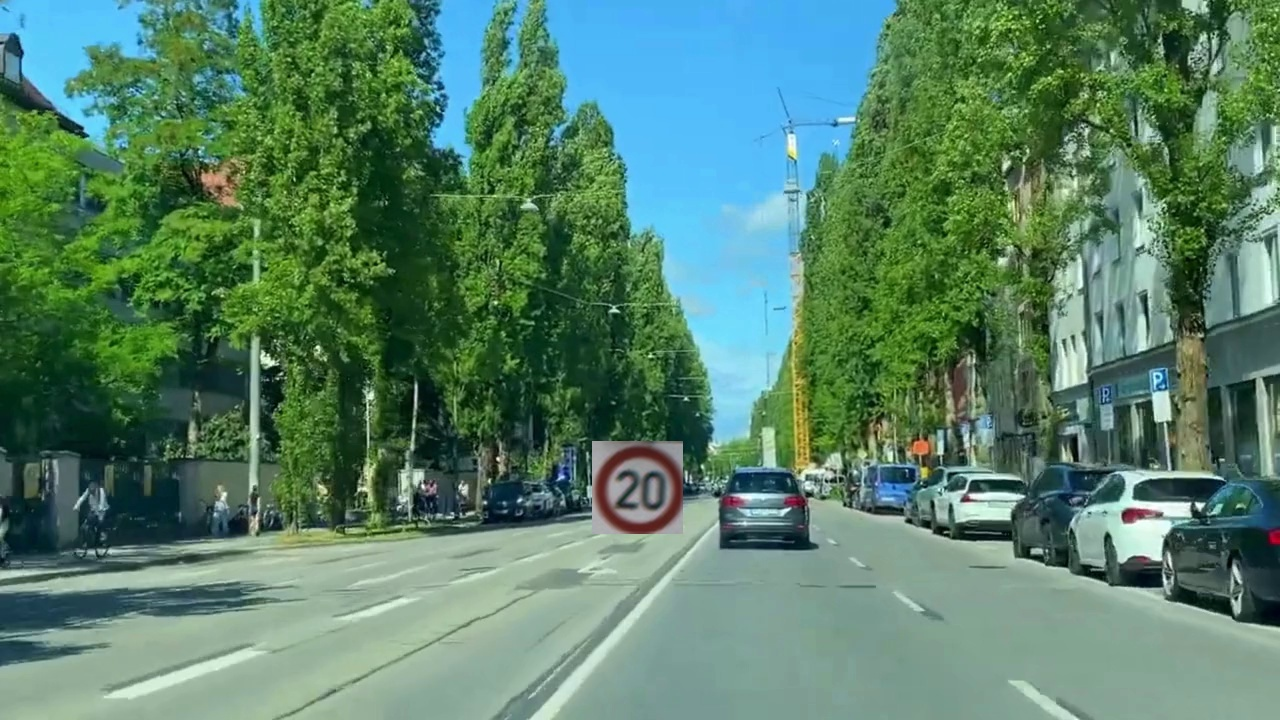Speed 20: (592, 441, 683, 534)
